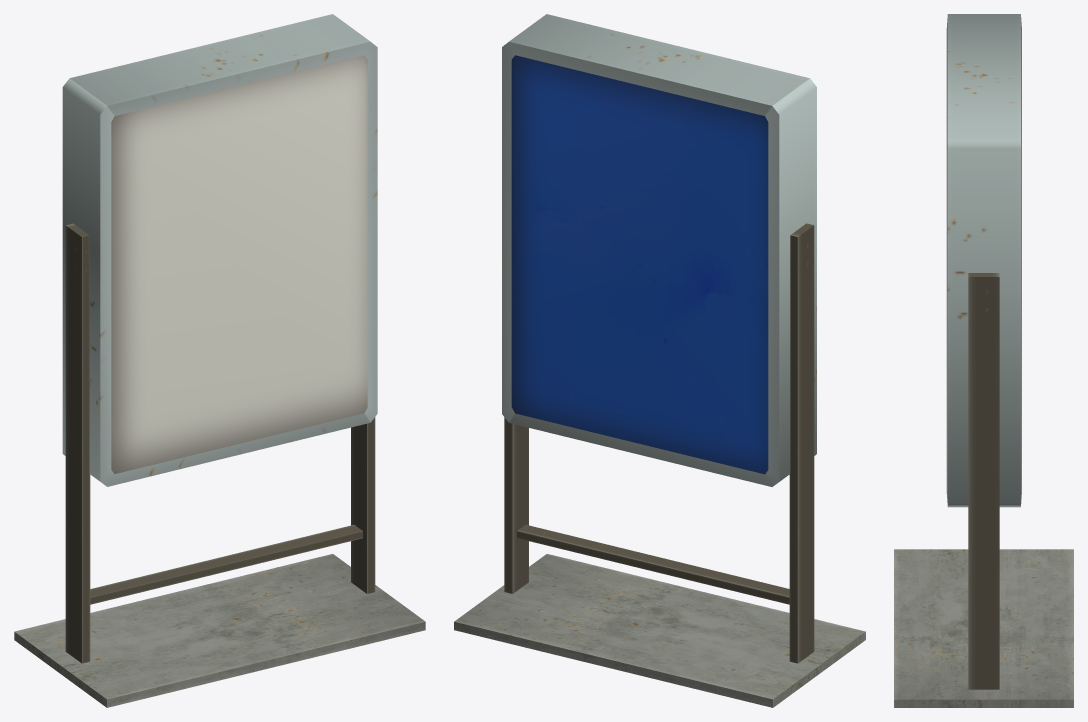
Rendered from Shop_sign01.fbx.
3 renders of one model, left to right at view 1: azimuth 30°, elevation 25°; view 2: azimuth 150°, elevation 25°; view 3: azimuth 270°, elevation 25°, orthographic. The views are drawn at different scales.
Parts seen in each view (by area): view 1: Shop_sign01; view 2: Shop_sign01; view 3: Shop_sign01.
Part boxes in pixels (x1=…): Shop_sign01: x1=14, y1=14, x2=425, y2=707; Shop_sign01: x1=454, y1=14, x2=865, y2=707; Shop_sign01: x1=894, y1=14, x2=1073, y2=707.
Bounding box in the file's own units: 62.43 × 31.49 × 108.
Materials: 2 (2 with a texture image).
